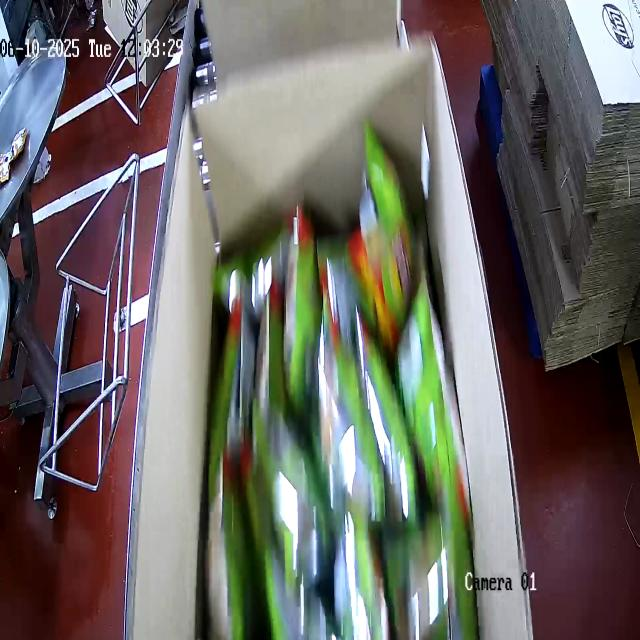YOGURT_HERB: (206, 161, 489, 640)
